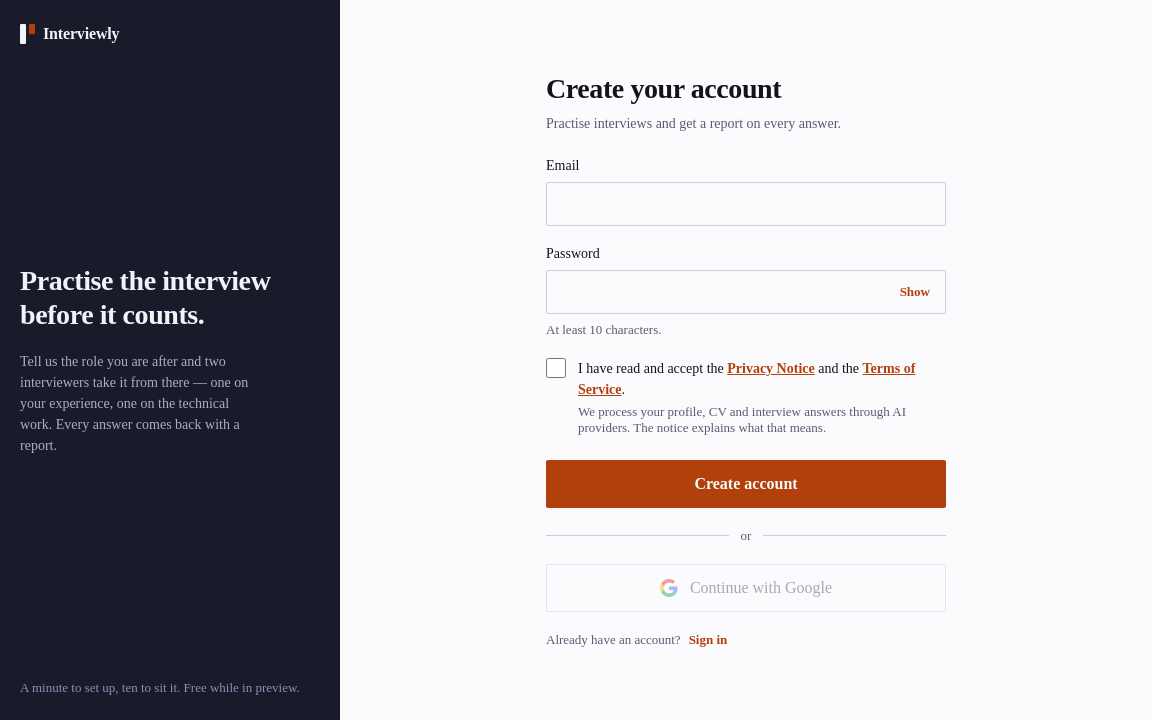
Test: register page › renders EMAIL_TAKEN from the error code, never the raw code
This screenshot has width=1152, height=720.
In the field labelled "Email": coordinates (746, 204) [546,182,946,226], type "taken@example.com"
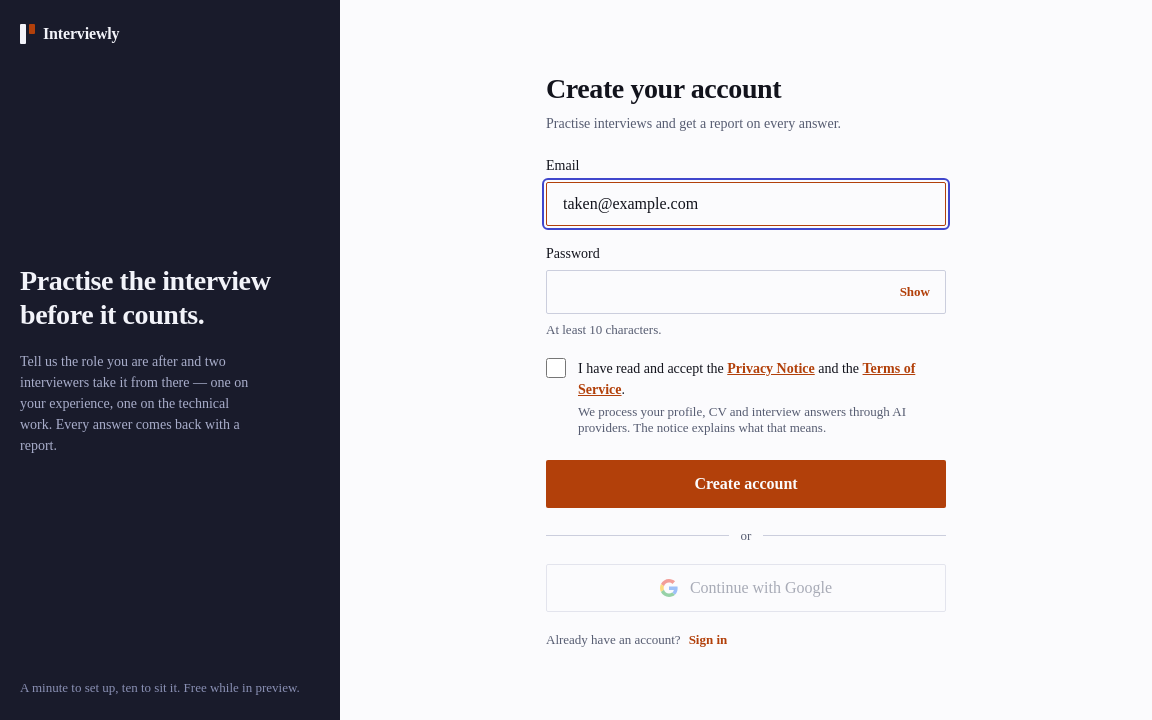
In the password field labelled "Password": coordinates (746, 292) [546,270,946,314], type "correct-horse"
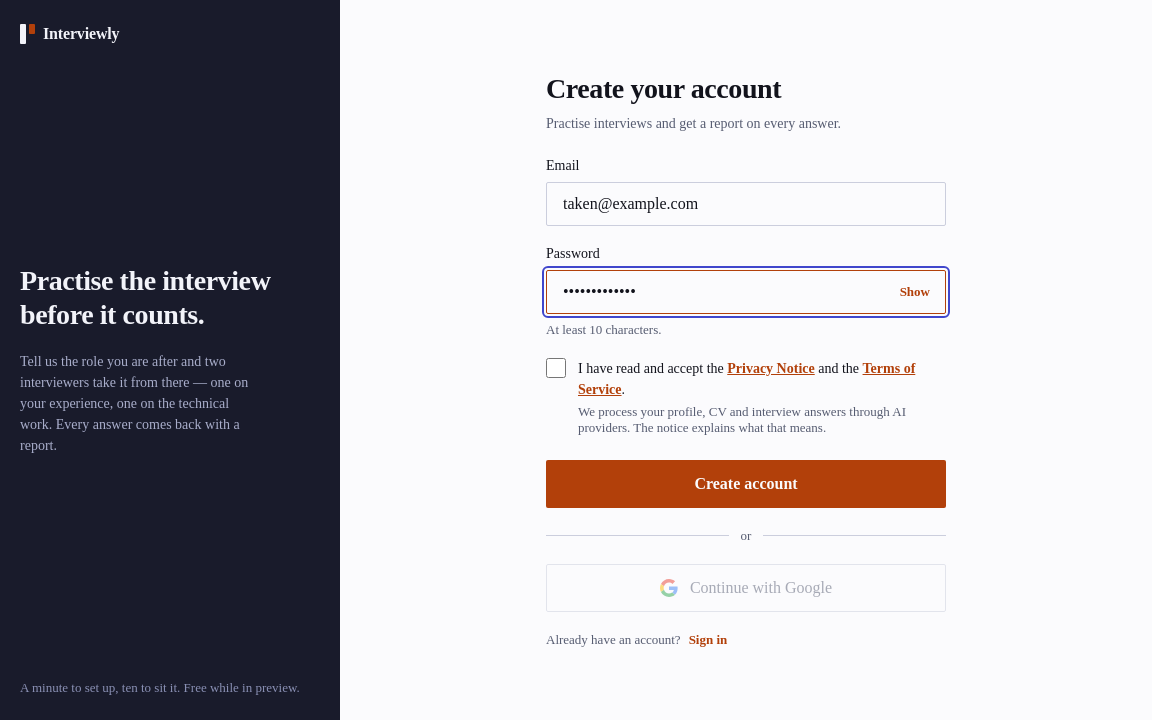
Click the checkbox: coordinates (556, 368) [546,358,566,378]
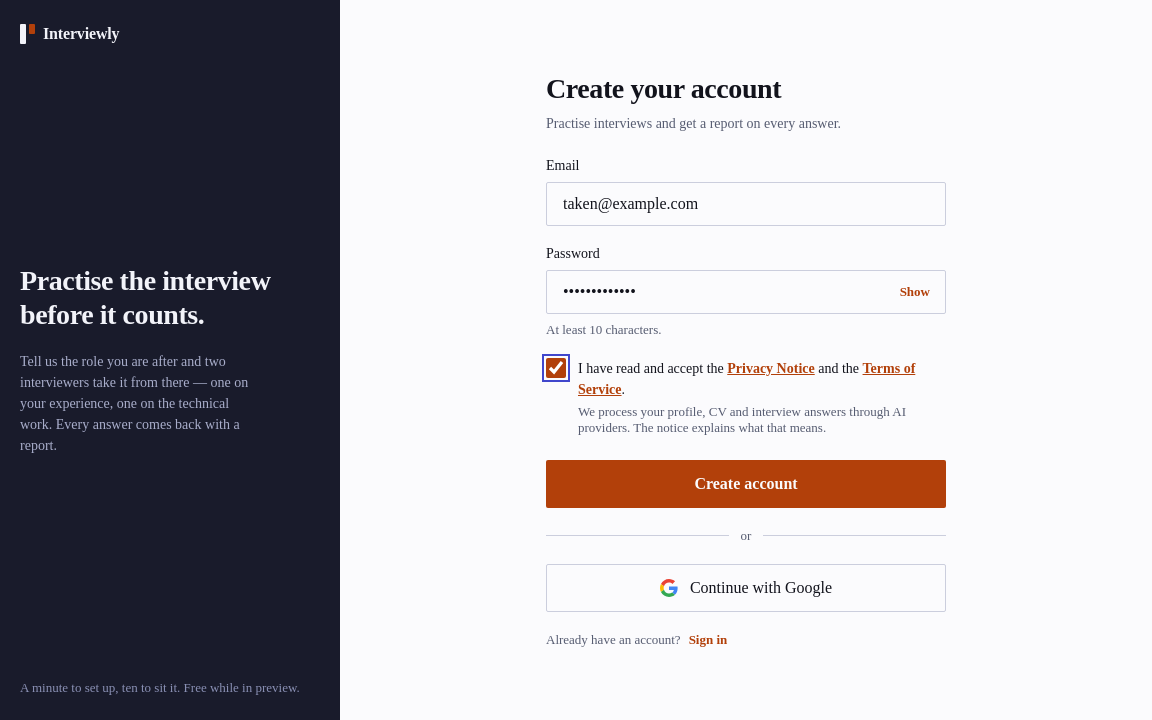
Click the button "Create account": coordinates (746, 484) [546,460,946,508]
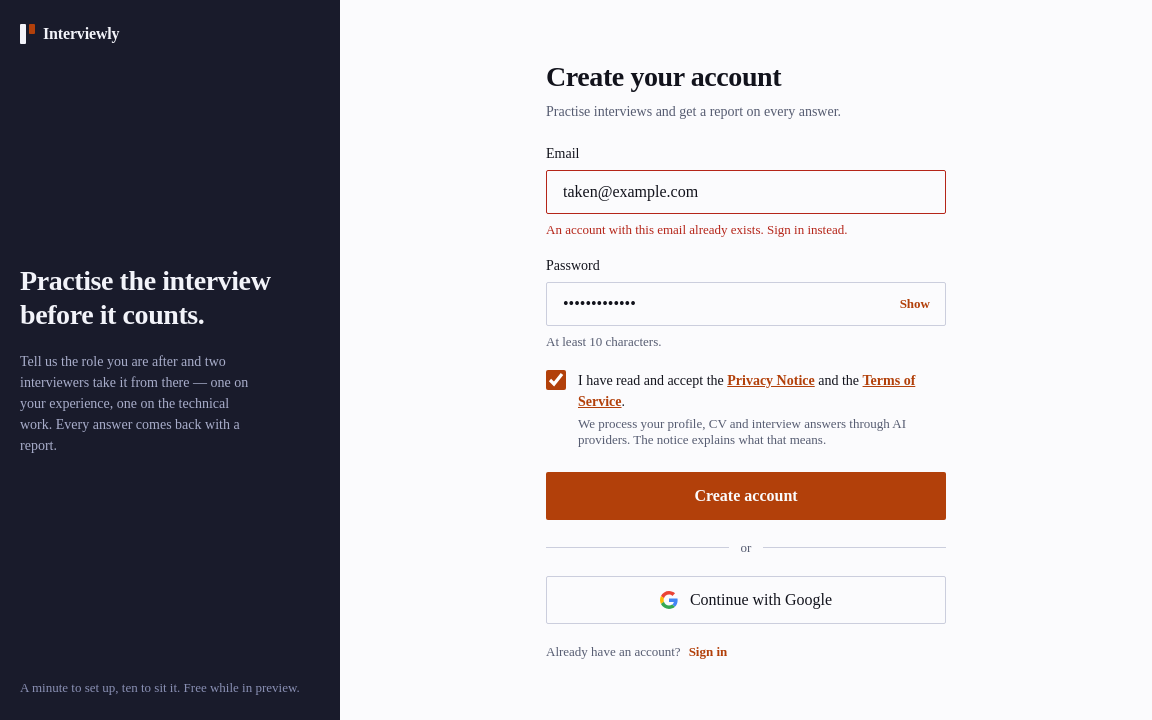
Expected: the text "An account with this email already exists. Sign in instead." is shown, [546,222,848,236]
